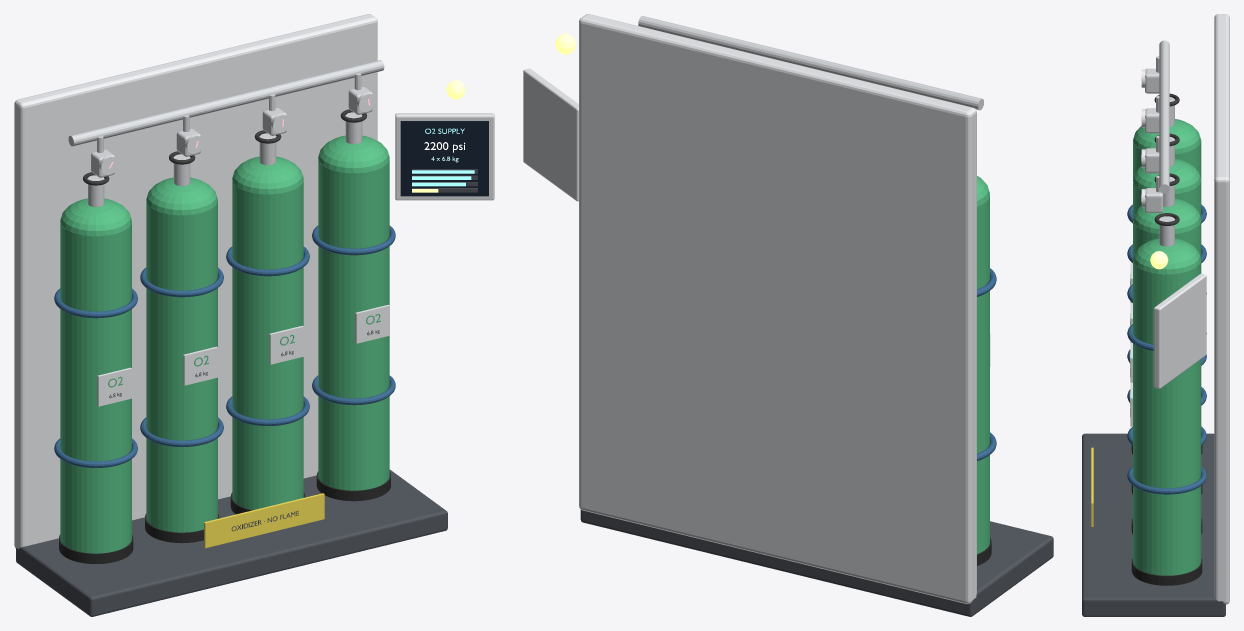
File: oxygen_tanks.glb
The picture shows the model from 3 angles, left to right: view 1: azimuth 30°, elevation 25°; view 2: azimuth 150°, elevation 25°; view 3: azimuth 270°, elevation 25°; orthographic projection. The views are drawn at different scales.
Visible parts, largest first — view 1: Cylinder_Boot, Torus (×8), Gauge_Needle; view 2: Cylinder_Boot; view 3: Cylinder_Boot, Torus (×2), Low_Pressure_Alarm.
Part boxes in pixels (box(x1,y1,x2,y2)): Cylinder_Boot: box(14, 14, 494, 616); Torus (×8): box(54, 225, 395, 467); Gauge_Needle: box(109, 99, 474, 186); Cylinder_Boot: box(523, 14, 1053, 616); Cylinder_Boot: box(1082, 14, 1229, 616); Torus (×2): box(1127, 324, 1206, 494); Low_Pressure_Alarm: box(1150, 251, 1168, 269).
Bounding box in the file's own units: 1.86 × 1.85 × 0.565.
Materials: 4 (4 with a texture image).
